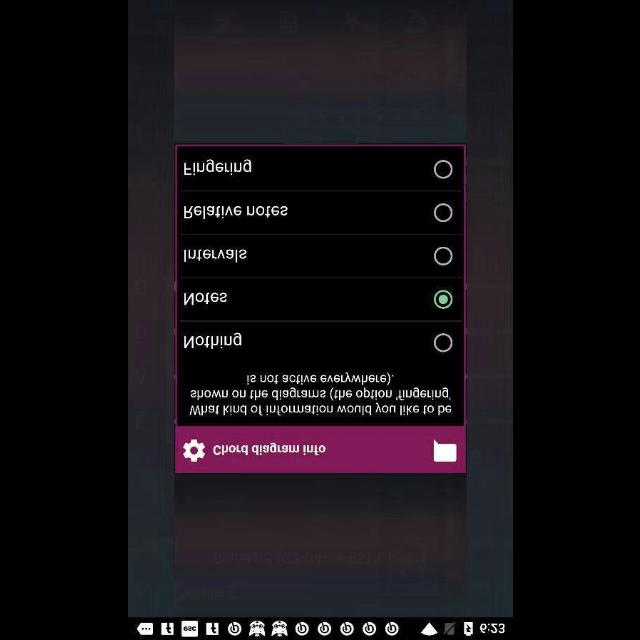checkbox: (432, 333, 452, 353), (432, 290, 452, 310), (432, 204, 452, 222), (432, 160, 452, 178), (433, 247, 451, 266)
icon: (432, 439, 456, 461), (183, 439, 205, 461)
panel: (174, 145, 466, 473)
text: (189, 371, 451, 415), (213, 442, 325, 454), (183, 206, 287, 218), (183, 159, 250, 175), (183, 332, 240, 348), (184, 250, 246, 262), (184, 292, 226, 306)
uppertaskbar: (128, 617, 512, 639)
